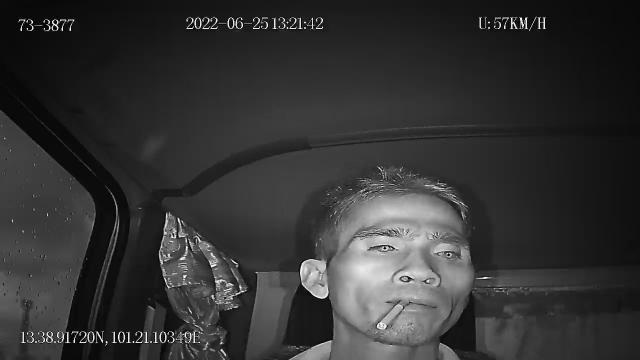SafeDriving: (428, 240, 468, 264), (362, 236, 404, 258)
Smoking: (377, 300, 408, 330)
